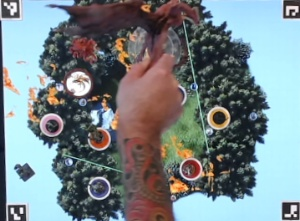orange: (85, 126, 111, 151)
pink: (39, 112, 63, 137)
red: (179, 156, 202, 181)
violet: (86, 174, 113, 200)
yellow: (208, 104, 233, 129)
